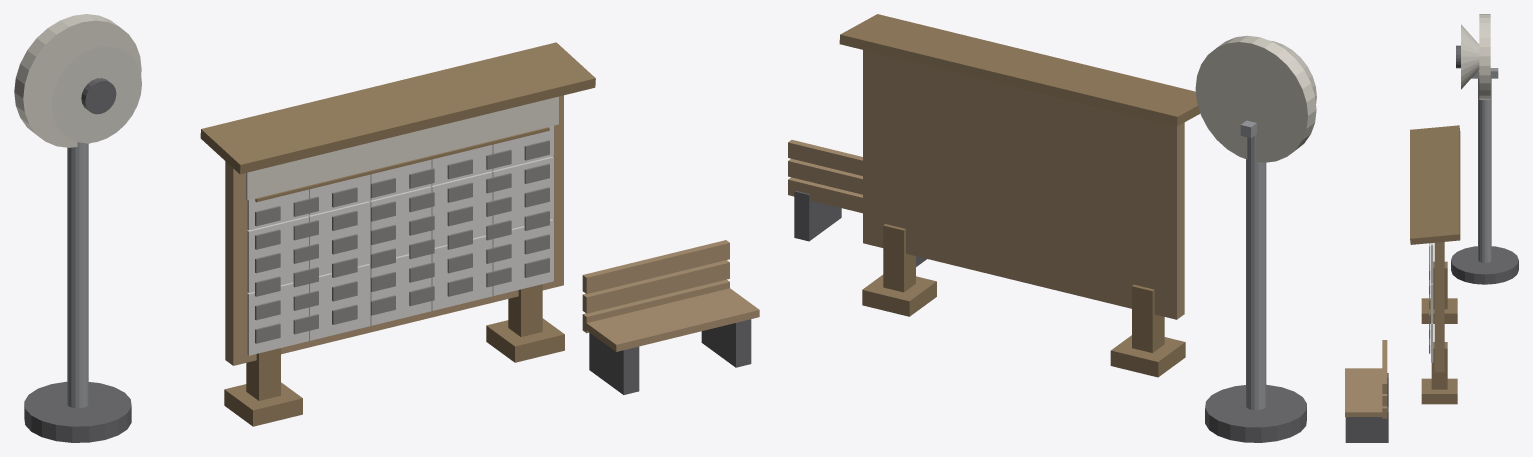
Rendered from plaza-set.glb.
3 renders of one model, left to right at view 1: azimuth 30°, elevation 25°; view 2: azimuth 150°, elevation 25°; view 3: azimuth 270°, elevation 25°, orthographic. The views are drawn at different scales.
Visible parts, largest first — view 1: board_roof_1, board_title_band_1, board_frame_1, speaker_body_1, speaker_horn_1, speaker_pole_1, speaker_base_1, bench_back_3, bench_back_2, board_panel_10, board_panel_4, board_panel_11 (+24 smaller); view 2: board_frame_1, board_roof_1, speaker_body_1, speaker_pole_1, speaker_base_1, board_foot_1, board_foot_2, board_leg_2, board_leg_1, bench_leg_2, bench_back_3, bench_back_2 (+1 smaller); view 3: board_roof_1, speaker_pole_1, speaker_base_1, board_frame_1, bench_leg_2, speaker_body_1, speaker_horn_1, board_foot_2, bench_seat_1, bench_seat_2, bench_seat_3, board_foot_1 (+3 smaller).
Part boxes in pixels (<box>): board_roof_1: <box>200,42,595,174</box>; board_title_band_1: <box>246,96,558,200</box>; board_frame_1: <box>225,95,563,365</box>; speaker_body_1: <box>14,14,141,147</box>; speaker_horn_1: <box>51,46,141,143</box>; speaker_pole_1: <box>67,142,88,408</box>; speaker_base_1: <box>24,381,131,442</box>; bench_back_3: <box>582,240,729,293</box>; bench_back_2: <box>582,260,729,313</box>; board_panel_10: <box>431,235,492,310</box>; board_panel_4: <box>309,264,370,340</box>; board_panel_11: <box>430,171,492,247</box>; board_frame_1: <box>863,50,1184,319</box>; board_roof_1: <box>839,14,1200,126</box>; speaker_body_1: <box>1195,35,1316,162</box>; speaker_pole_1: <box>1246,134,1266,410</box>; speaker_base_1: <box>1205,384,1306,442</box>; board_foot_1: <box>1110,335,1185,377</box>; board_foot_2: <box>862,274,936,316</box>; board_leg_2: <box>883,224,915,292</box>; board_leg_1: <box>1132,284,1164,352</box>; bench_leg_2: <box>794,190,841,241</box>; bench_back_3: <box>788,140,862,175</box>; bench_back_2: <box>788,158,862,194</box>; board_roof_1: <box>1410,125,1460,244</box>; speaker_pole_1: <box>1478,78,1491,262</box>; speaker_base_1: <box>1451,246,1518,284</box>; board_frame_1: <box>1434,242,1444,372</box>; bench_leg_2: <box>1345,407,1388,442</box>; speaker_body_1: <box>1479,14,1490,99</box>; speaker_horn_1: <box>1461,24,1479,89</box>; board_foot_2: <box>1421,378,1457,404</box>; bench_seat_1: <box>1370,368,1382,416</box>; bench_seat_2: <box>1357,368,1369,416</box>; bench_seat_3: <box>1345,368,1357,416</box>; board_foot_1: <box>1421,298,1457,323</box>.
Size of the model in its own units: 20.2 by 12.3 by 7.68.
